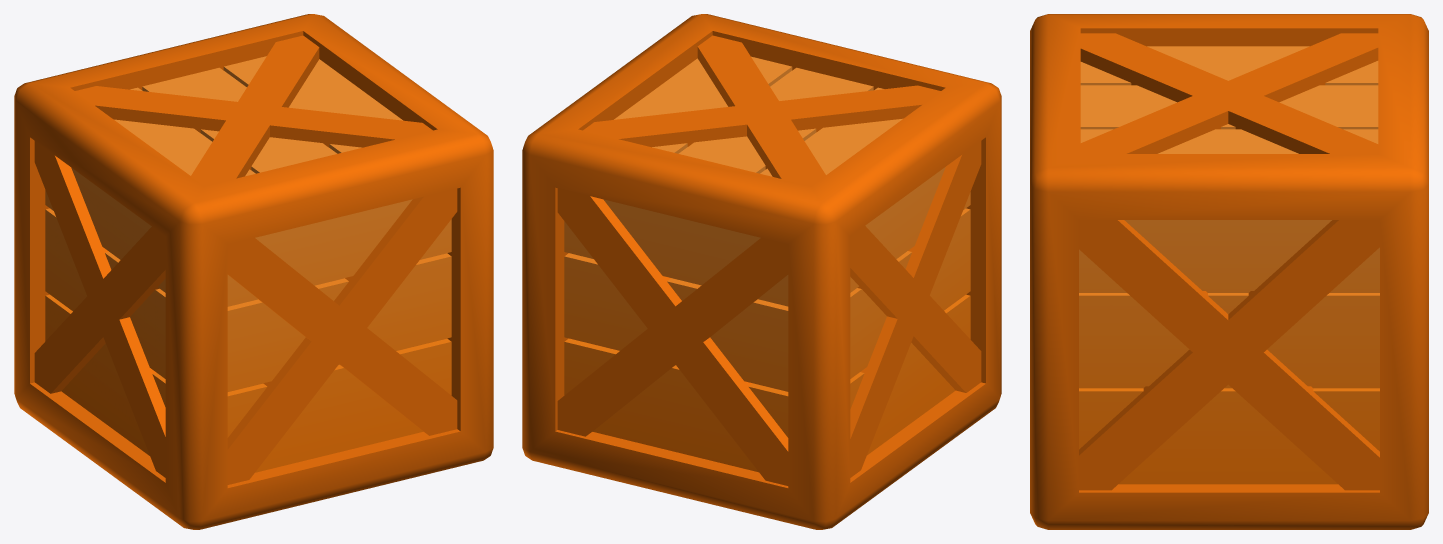
The model's file is Props_Crate_03.fbx.
The picture shows the model from 3 angles, left to right: view 1: azimuth 30°, elevation 25°; view 2: azimuth 150°, elevation 25°; view 3: azimuth 270°, elevation 25°; orthographic projection. The views are drawn at different scales.
Visible parts, largest first — view 1: Props_Crate_03; view 2: Props_Crate_03; view 3: Props_Crate_03.
Boxes of the visible parts, <box> form: Props_Crate_03: <box>14,14,493,529</box>; Props_Crate_03: <box>522,14,1001,529</box>; Props_Crate_03: <box>1030,14,1428,529</box>.
Bounding box in the file's own units: 119 × 119 × 119.
